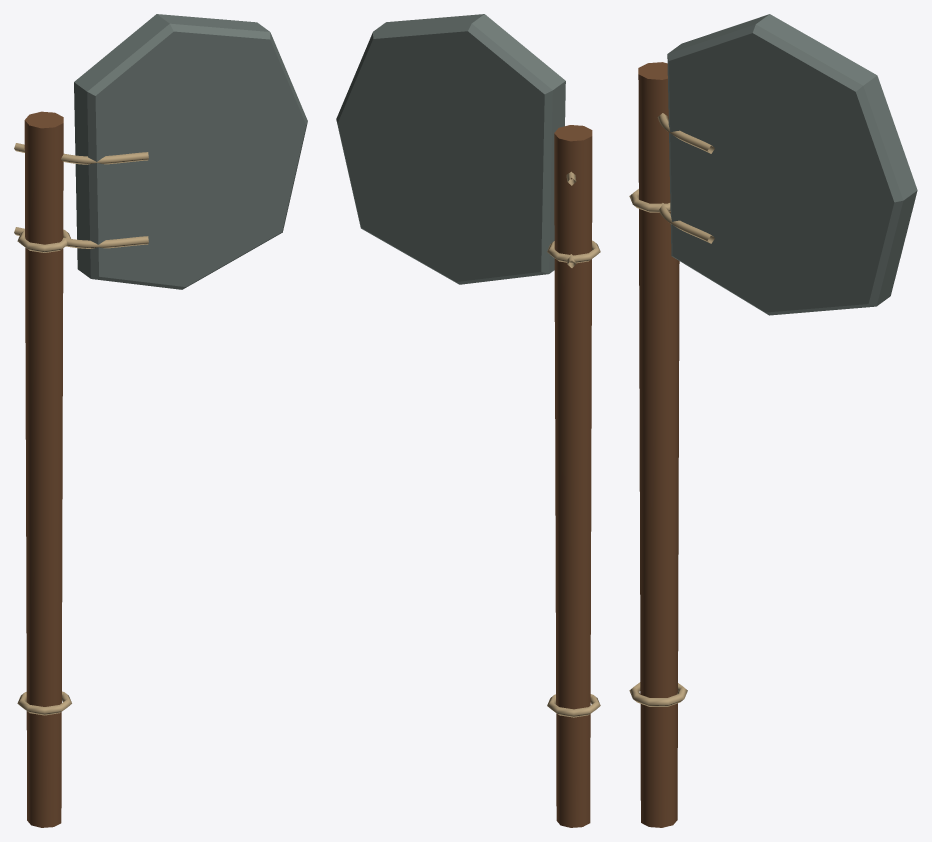
Rendered from stone_worker.glb.
The picture shows the model from 3 angles, left to right: view 1: azimuth 30°, elevation 25°; view 2: azimuth 150°, elevation 25°; view 3: azimuth 330°, elevation 25°; orthographic projection. The views are drawn at different scales.
Parts seen in each view (by area): view 1: part_2, part_0, part_1; view 2: part_2, part_0, part_1; view 3: part_2, part_0, part_1.
Boxes of the visible parts, x1,y1,x2,y2 form: part_2: [74, 14, 307, 289]; part_0: [24, 111, 63, 827]; part_1: [14, 143, 148, 715]; part_2: [336, 14, 565, 284]; part_0: [554, 125, 592, 827]; part_1: [547, 171, 600, 717]; part_2: [667, 14, 917, 315]; part_0: [638, 62, 679, 827]; part_1: [629, 113, 714, 706].
Size of the model in its own units: 0.2007 by 0.5589 by 0.0595.
